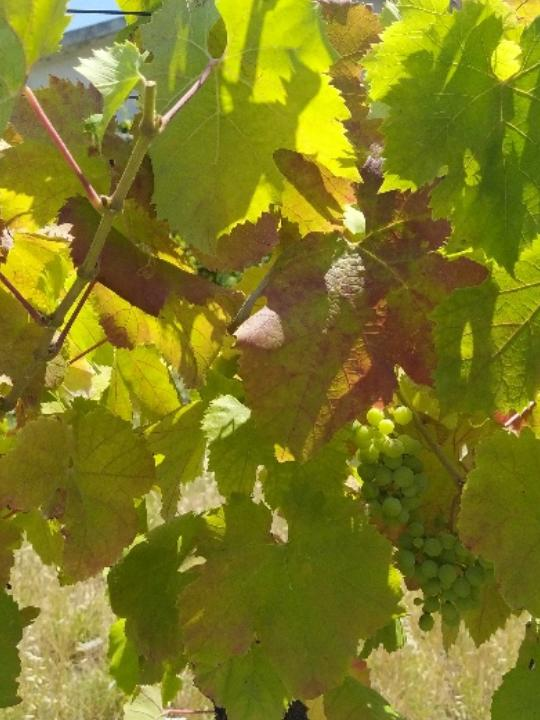grape: (349, 399, 491, 638)
